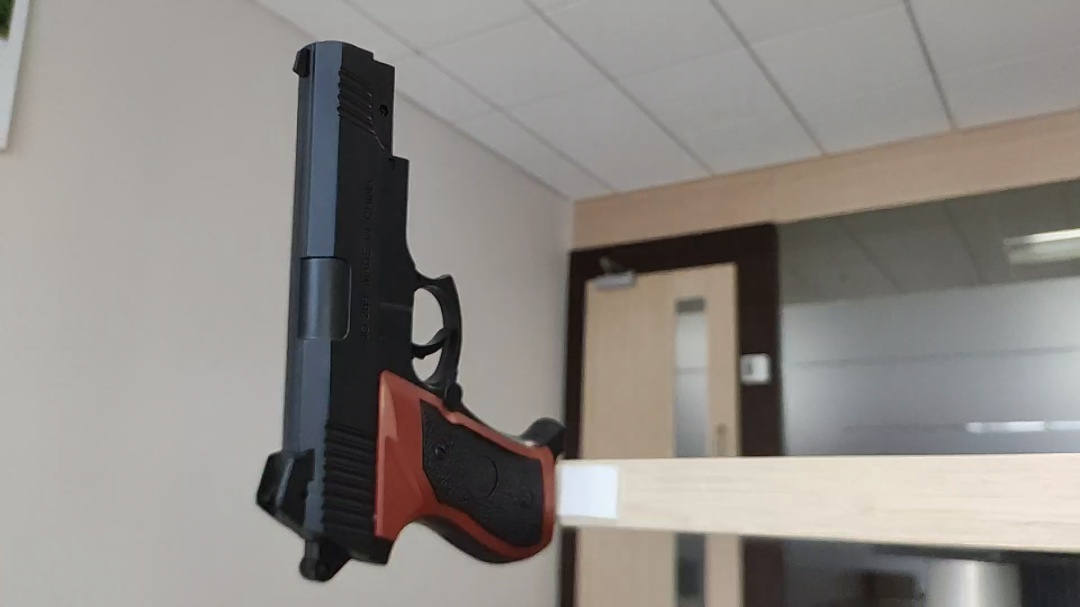gun: (408, 311, 440, 327)
